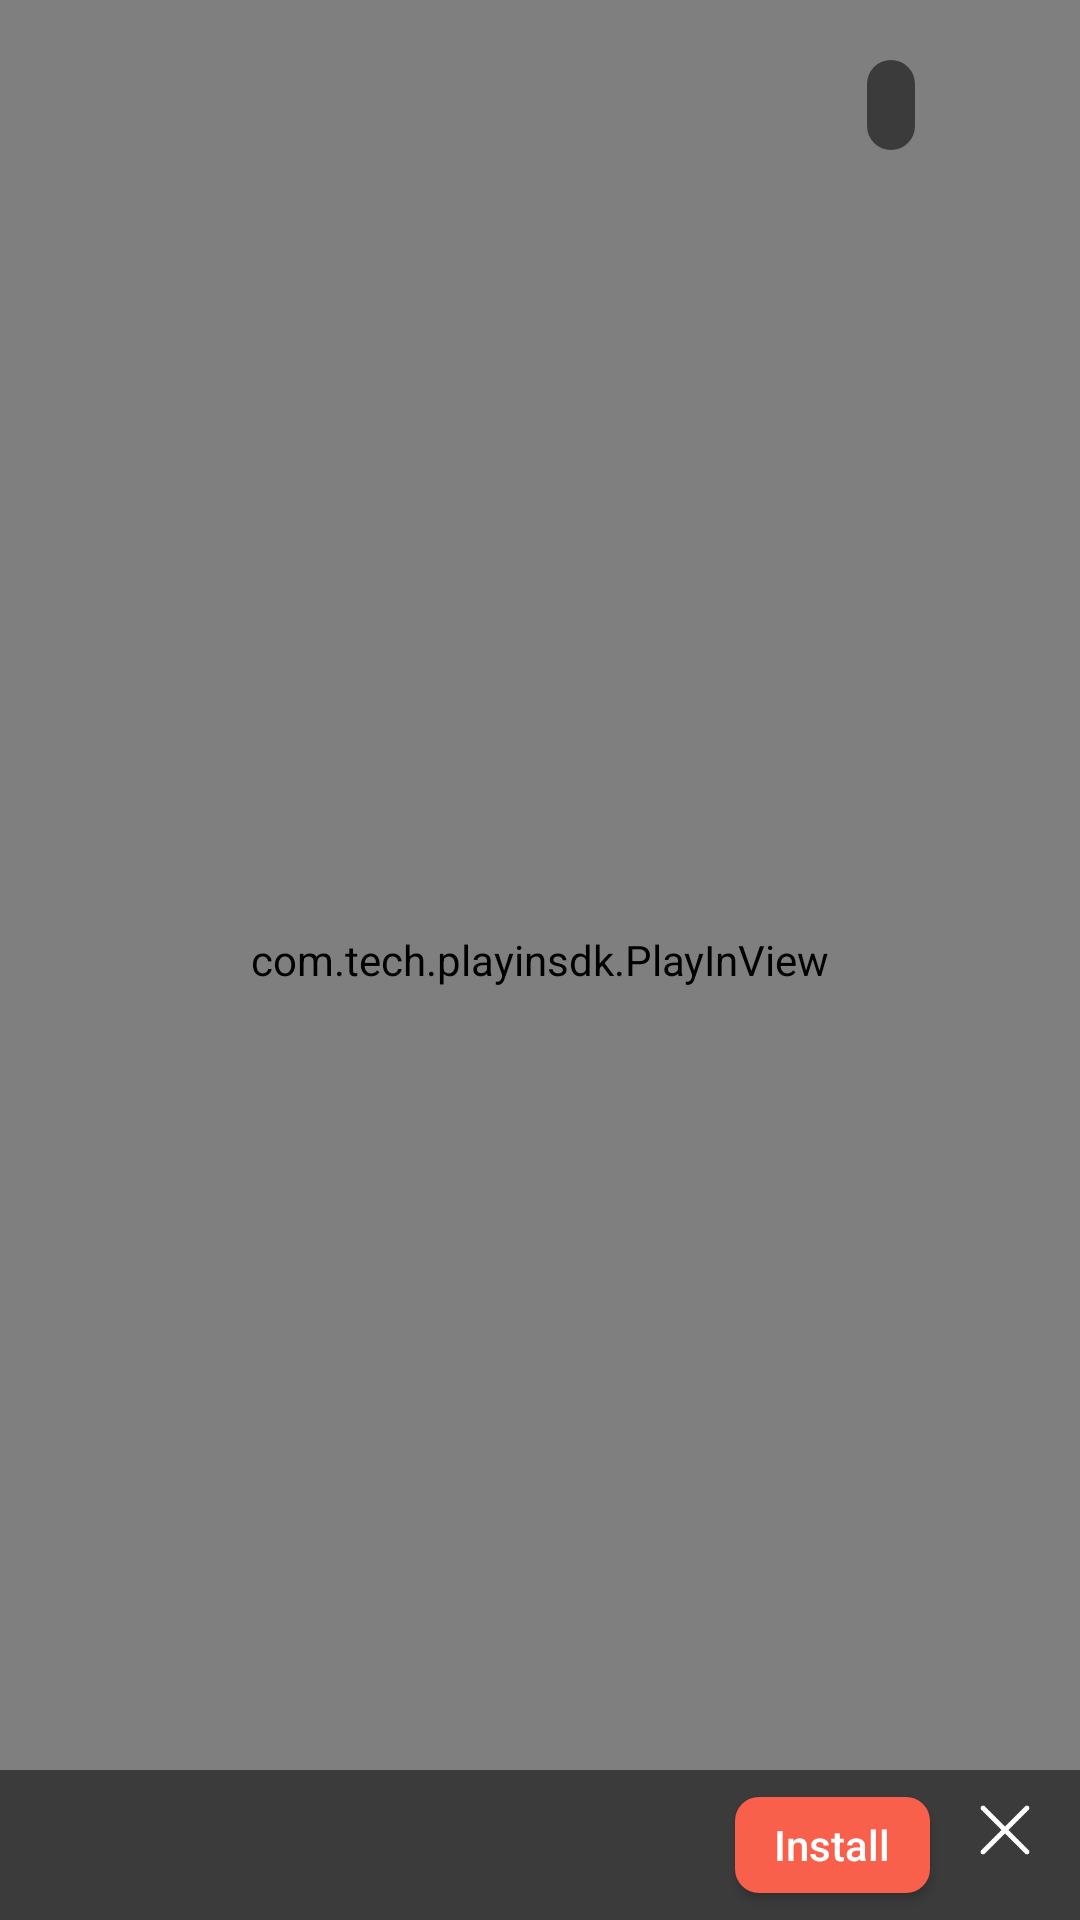

Locate icon controls on the screen. Image size 1080 × 1920, boxes as [x1,y1,x2,y2].
close: [980,1805,1030,1855]
